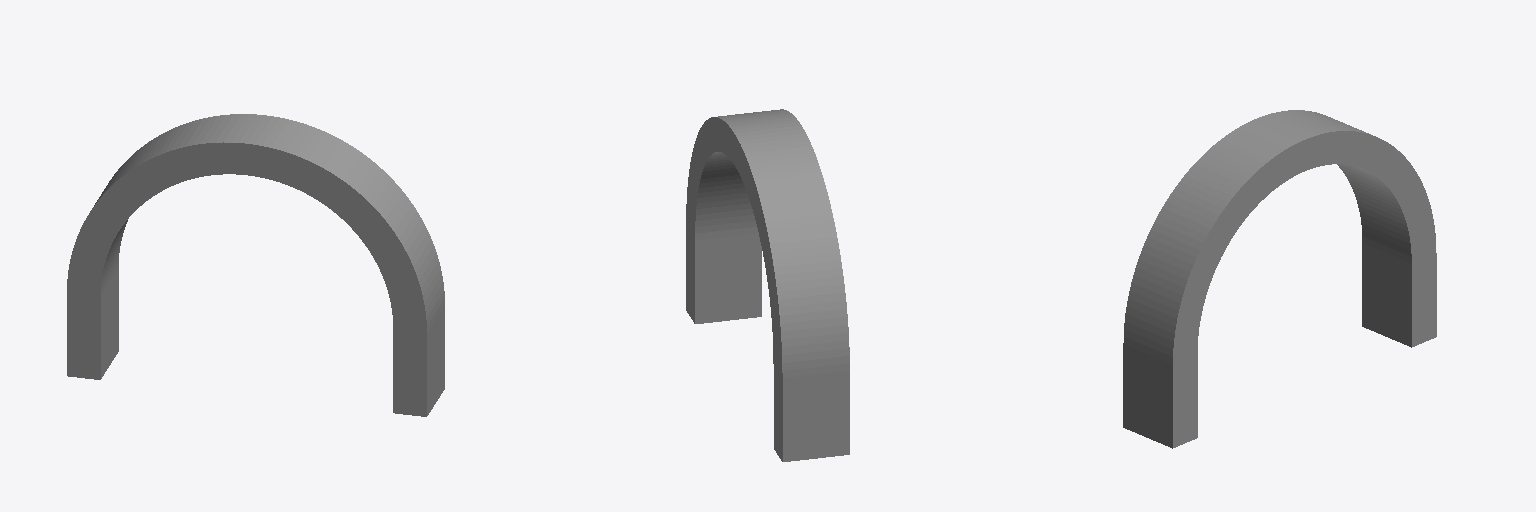
The model's file is doorframe.obj.
3 views of the same model, side by side, from view 1: azimuth 30°, elevation 25°; view 2: azimuth 150°, elevation 25°; view 3: azimuth 270°, elevation 25° (orthographic).
Visible parts, largest first — view 1: MeshBody6; view 2: MeshBody6; view 3: MeshBody6.
Part boxes in pixels (bbox=[...]): MeshBody6: bbox=[67, 114, 444, 416]; MeshBody6: bbox=[686, 109, 849, 461]; MeshBody6: bbox=[1123, 110, 1436, 448].
Size of the model in its own units: 8.97 by 8 by 8.97.